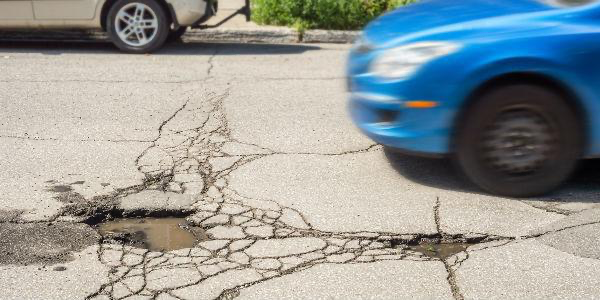pothole: (85, 198, 214, 252), (383, 231, 482, 262)
